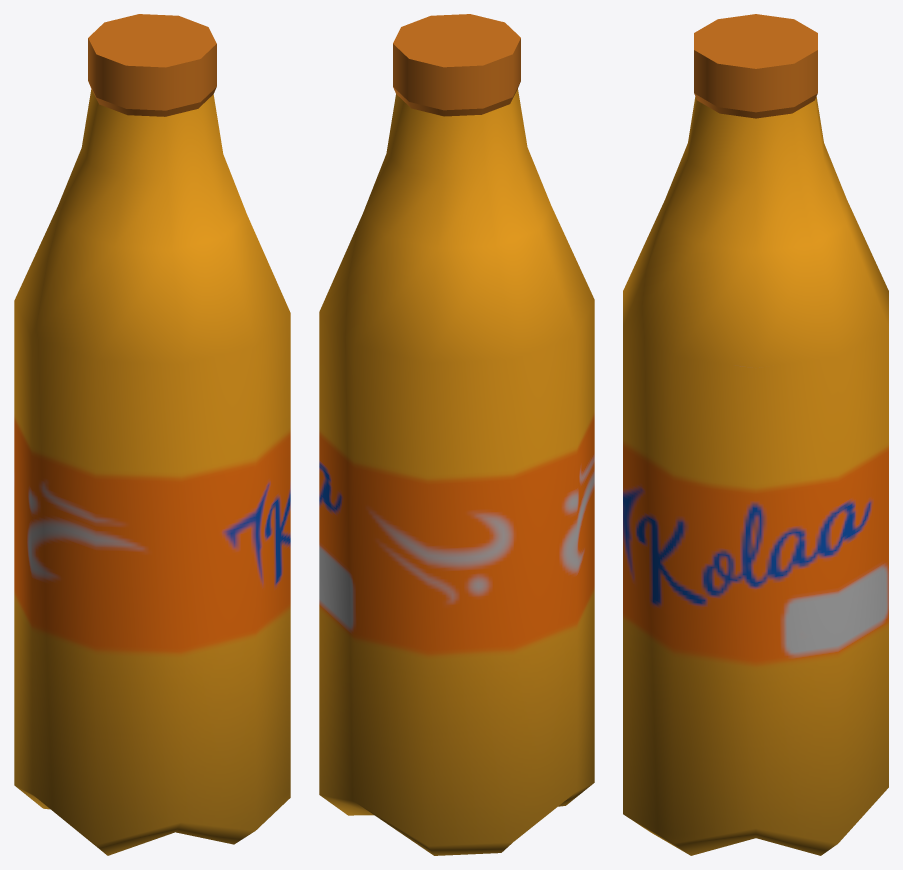
Rendered from Cola_02.fbx.
3 renders of one model, left to right at view 1: azimuth 30°, elevation 25°; view 2: azimuth 150°, elevation 25°; view 3: azimuth 270°, elevation 25°, orthographic.
Parts seen in each view (by area): view 1: Cola_02; view 2: Cola_02; view 3: Cola_02.
Part boxes in pixels (<box>): Cola_02: <box>14,14,290,855</box>; Cola_02: <box>319,14,594,855</box>; Cola_02: <box>623,14,888,855</box>.
Size of the model in its own units: 9.09 by 27.89 by 8.65.
